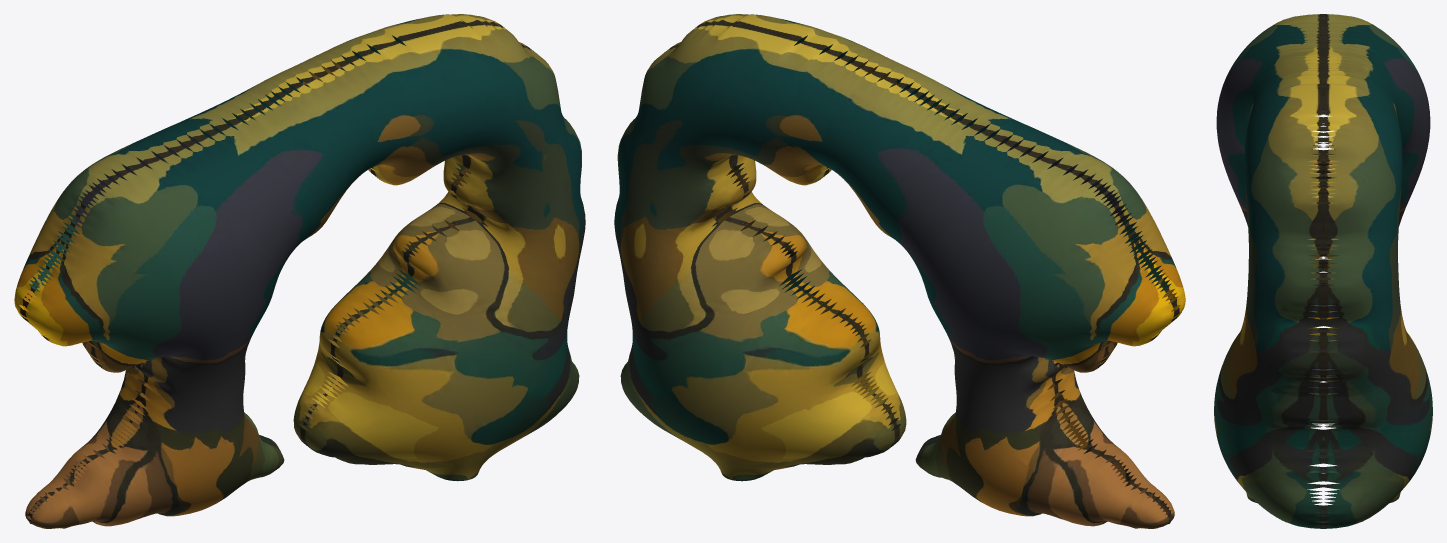
Rendered from rock_arch.glb.
3 renders of one model, left to right at view 1: azimuth 30°, elevation 25°; view 2: azimuth 150°, elevation 25°; view 3: azimuth 270°, elevation 25°, orthographic. The views are drawn at different scales.
Visible parts, largest first — view 1: rock_arch; view 2: rock_arch; view 3: rock_arch.
Boxes of the visible parts, x1,y1,x2,y2 form: rock_arch: (14,14,585,528); rock_arch: (614,14,1185,528); rock_arch: (1214,14,1432,528).
Size of the model in its own units: 0.9885 by 0.7216 by 0.358.
1 material, 1 textured.
